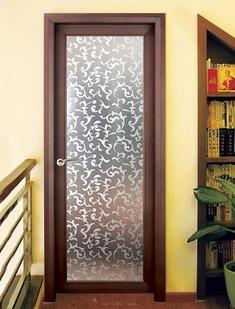door: (55, 27, 155, 290)
